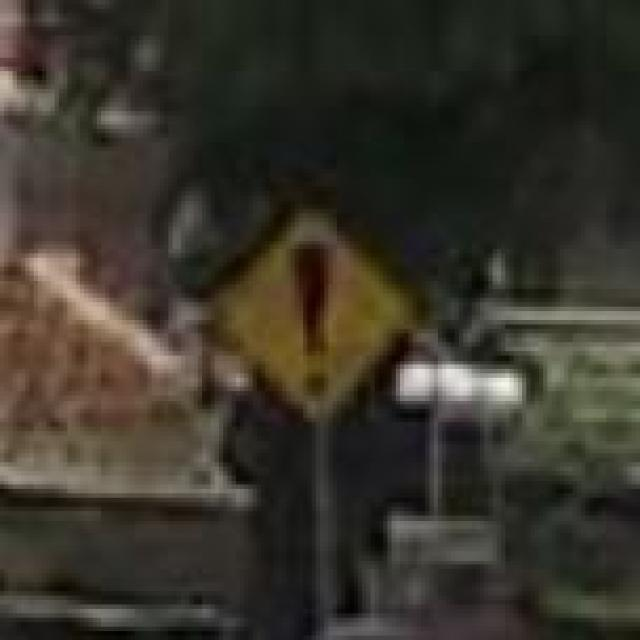traffic sign: (206, 204, 420, 418)
